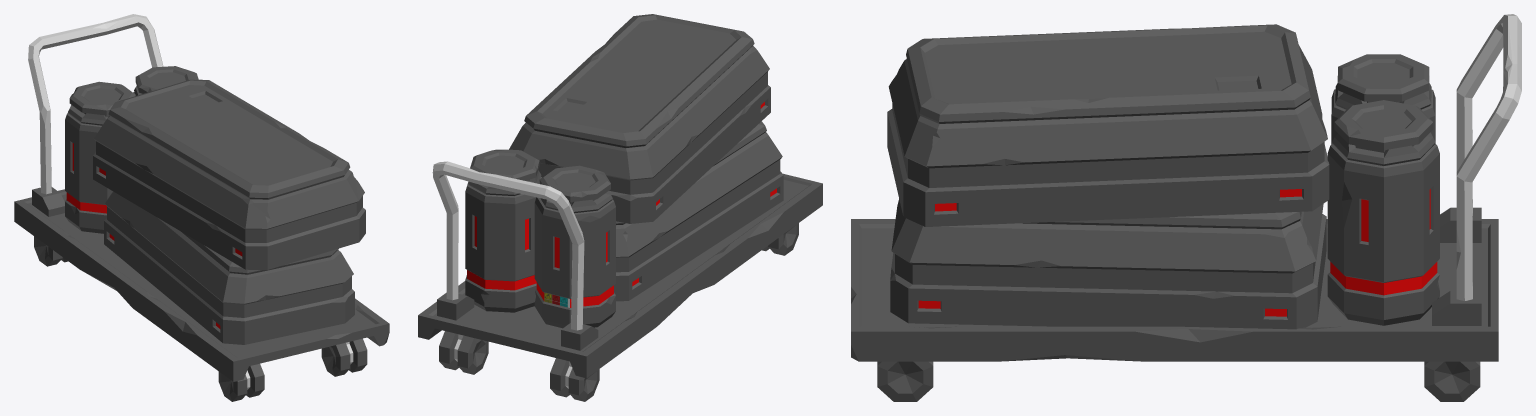
The model's file is CartFilled_01.fbx.
3 renders of one model, left to right at view 1: azimuth 30°, elevation 25°; view 2: azimuth 150°, elevation 25°; view 3: azimuth 270°, elevation 25°, orthographic. The views are drawn at different scales.
Parts seen in each view (by area): view 1: Cart_Filled_01; view 2: Cart_Filled_01; view 3: Cart_Filled_01.
Boxes of the visible parts, box(x1,y1,x2,y2) form: Cart_Filled_01: box(14, 14, 389, 401); Cart_Filled_01: box(418, 14, 822, 401); Cart_Filled_01: box(851, 14, 1521, 401).
Bounding box in the file's own units: 87.52 × 109 × 218.
